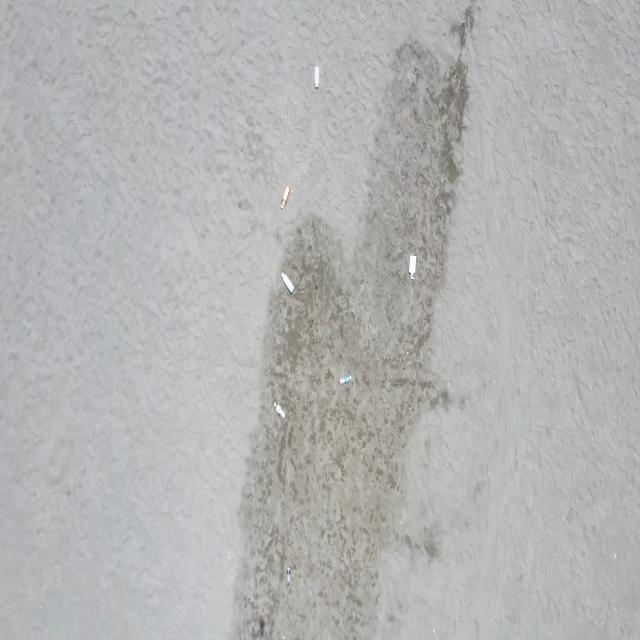plastic-bottle: (281, 271, 296, 296), (278, 184, 292, 210), (273, 400, 286, 420), (408, 256, 418, 280), (314, 64, 322, 88), (338, 373, 352, 386), (286, 566, 292, 583)
